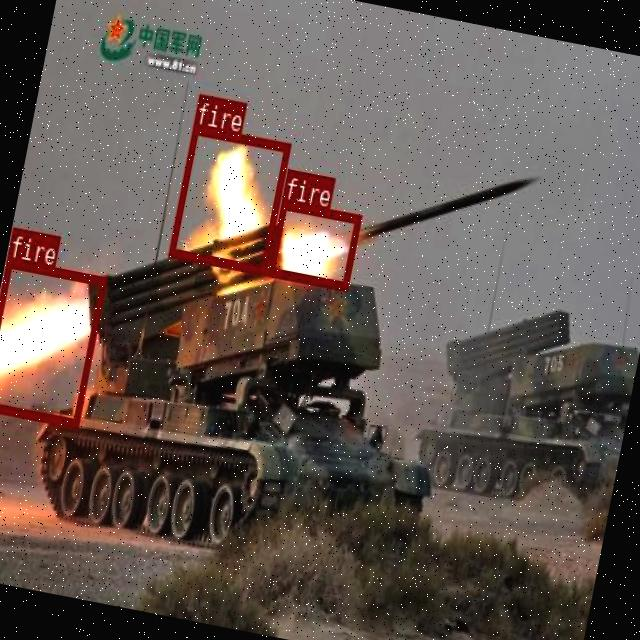fire: (168, 124, 291, 272), (0, 257, 106, 425), (267, 200, 361, 290)
